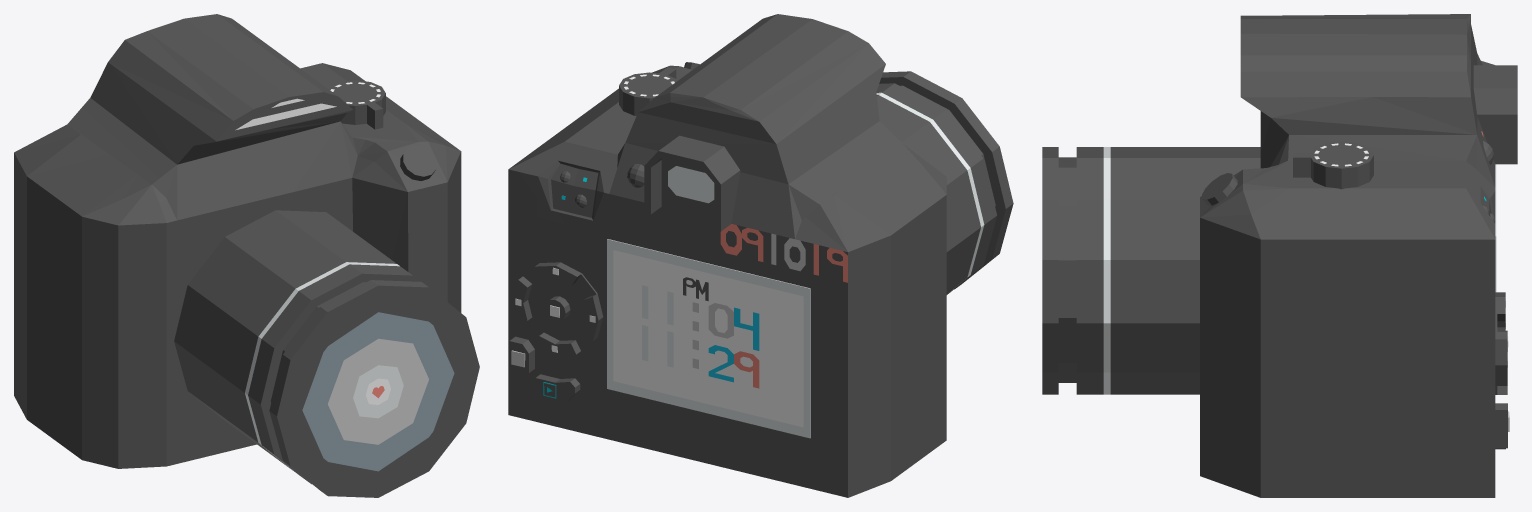
File: camera.gltf
3 renders of one model, left to right at view 1: azimuth 30°, elevation 25°; view 2: azimuth 150°, elevation 25°; view 3: azimuth 270°, elevation 25°, orthographic. The views are drawn at different scales.
Parts seen in each view (by area): view 1: mesh921474637, mesh752571559, mesh1737393197, mesh1937054335, mesh644137097, mesh37965892; view 2: mesh921474637, mesh752571559, mesh1202484088, mesh1937054335, mesh1048841803, mesh1737393197, mesh1865533571, mesh678258917, mesh644137097, mesh1739218781, mesh1067865208, mesh1446152560 (+1 smaller); view 3: mesh921474637, mesh752571559, mesh1937054335, mesh1882183760, mesh1737393197, mesh644137097, mesh678258917, mesh1446152560, mesh1048841803, mesh37965892, mesh1683412591.
Part boxes in pixels (x1,y1,x2,y2): mesh921474637: [14, 63, 461, 468]; mesh752571559: [67, 14, 357, 220]; mesh1737393197: [269, 280, 479, 497]; mesh1937054335: [174, 210, 419, 484]; mesh644137097: [328, 80, 385, 124]; mesh37965892: [400, 145, 436, 180]; mesh921474637: [508, 65, 946, 497]; mesh752571559: [609, 14, 901, 238]; mesh1202484088: [607, 239, 810, 438]; mesh1937054335: [876, 83, 996, 294]; mesh1048841803: [512, 262, 603, 355]; mesh1737393197: [879, 71, 1013, 289]; mesh1865533571: [661, 159, 714, 219]; mesh678258917: [644, 135, 739, 184]; mesh644137097: [619, 72, 677, 115]; mesh1739218781: [714, 170, 740, 231]; mesh1067865208: [531, 374, 580, 402]; mesh1446152560: [644, 160, 661, 214]; mesh921474637: [1200, 61, 1495, 497]; mesh752571559: [1240, 14, 1495, 187]; mesh1937054335: [1076, 147, 1260, 394]; mesh1882183760: [1058, 157, 1076, 382]; mesh1737393197: [1042, 147, 1058, 394]; mesh644137097: [1310, 141, 1373, 189]; mesh678258917: [1473, 65, 1517, 114]; mesh1446152560: [1477, 114, 1517, 164]; mesh1048841803: [1495, 292, 1507, 394]; mesh37965892: [1202, 173, 1237, 205]; mesh1683412591: [1495, 403, 1507, 448].
Size of the model in its own units: 0.1031 by 0.0978 by 0.1138.
